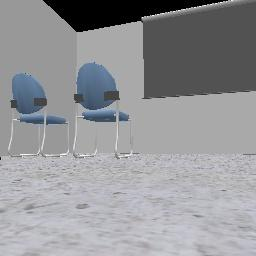scaun: (73, 62, 130, 158), (9, 73, 68, 156)
